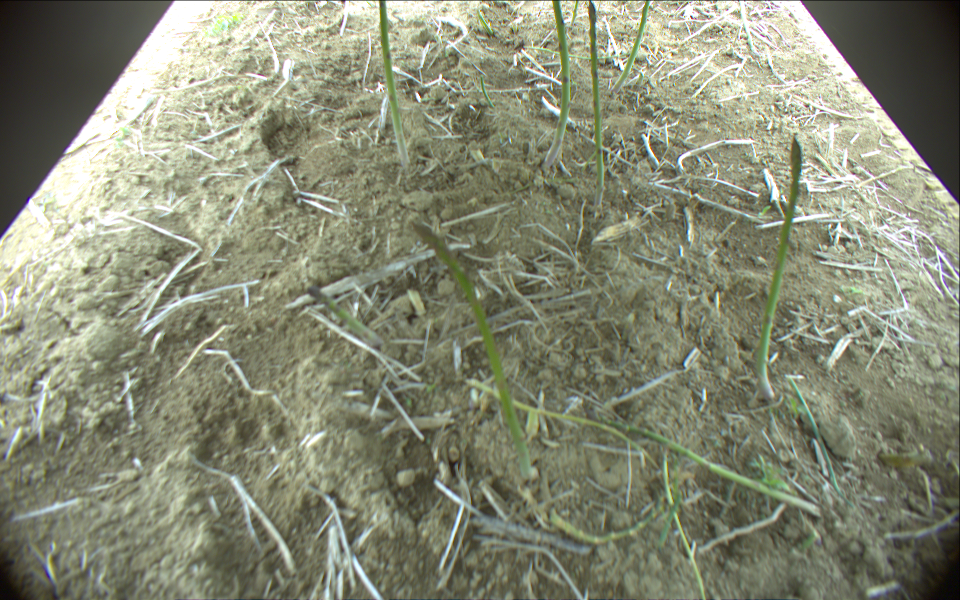aspa: (407, 221, 536, 480), (595, 411, 817, 515), (464, 377, 651, 467), (757, 135, 802, 400), (375, 1, 414, 168), (663, 453, 705, 600), (310, 285, 384, 351), (583, 1, 604, 216), (550, 508, 665, 545), (608, 1, 651, 93), (550, 1, 571, 168), (524, 42, 630, 59), (477, 8, 496, 37), (479, 76, 492, 107), (573, 1, 582, 27)
